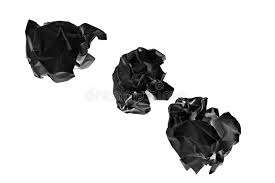crumpled paper: (161, 92, 246, 173), (21, 16, 105, 82), (114, 48, 175, 111)
